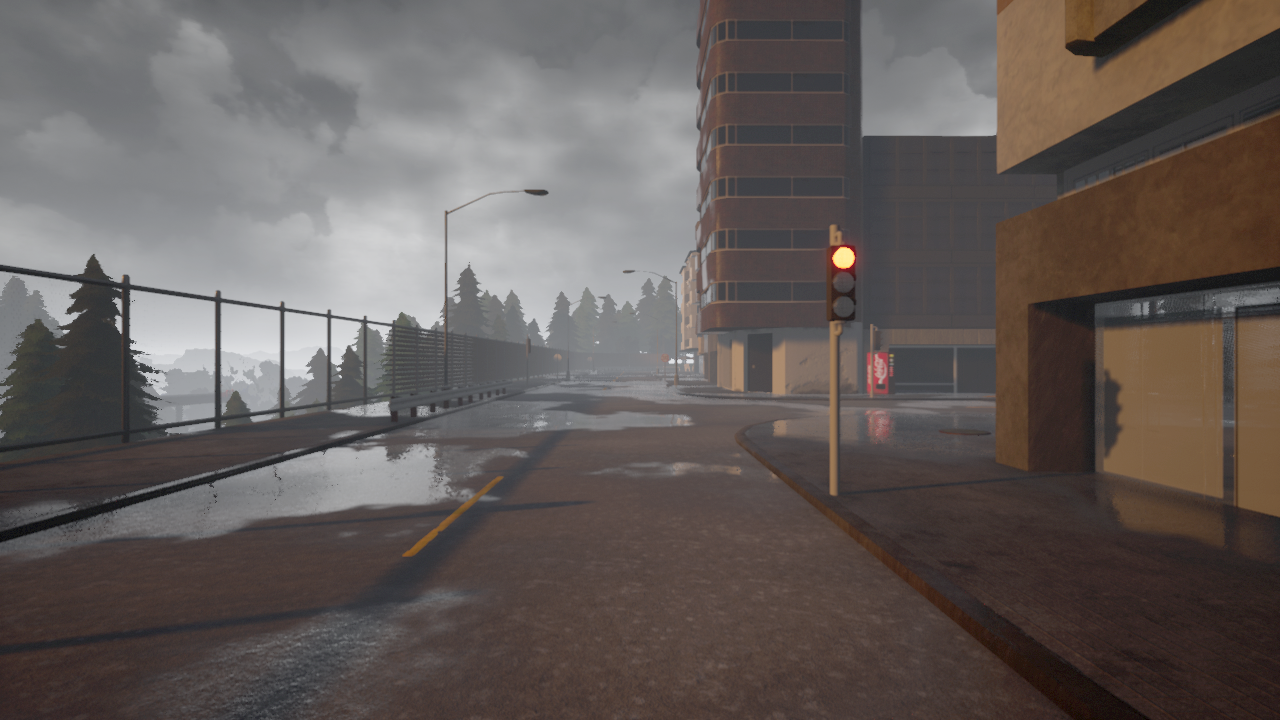red: (826, 242, 858, 322)
